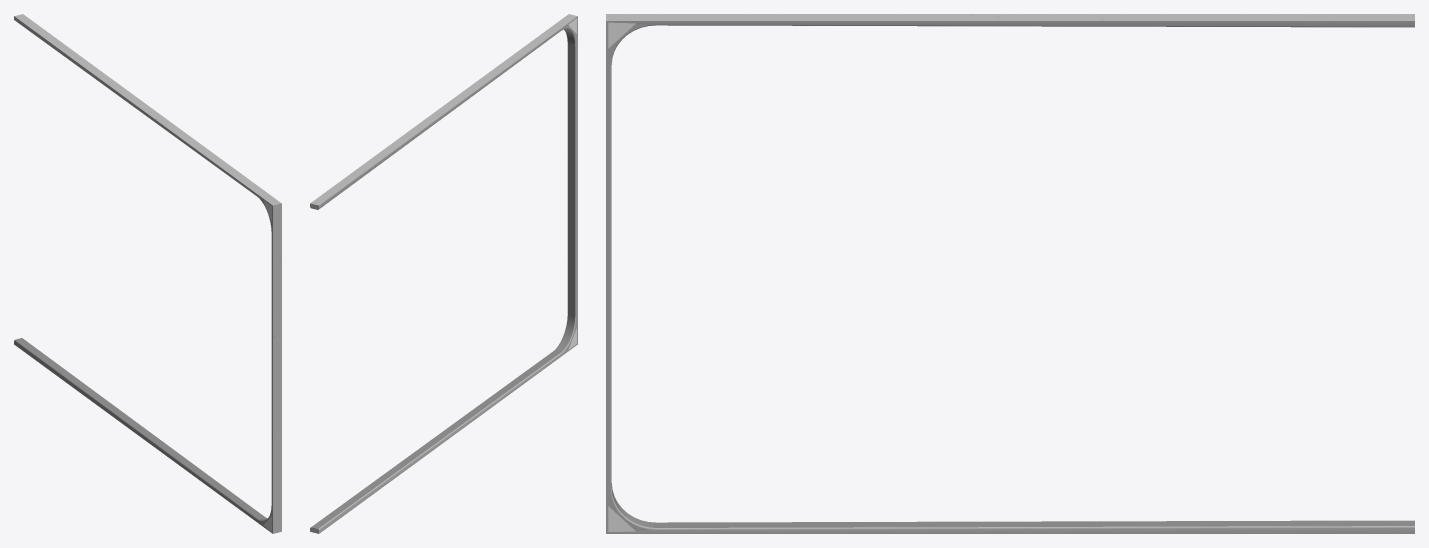
The model's file is SM_Interior_Part_1_Merged.fbx.
The picture shows the model from 3 angles, left to right: view 1: azimuth 30°, elevation 25°; view 2: azimuth 150°, elevation 25°; view 3: azimuth 270°, elevation 25°; orthographic projection. The views are drawn at different scales.
Visible parts, largest first — view 1: SM_Interior_Part_1_Merged_LOD0; view 2: SM_Interior_Part_1_Merged_LOD0; view 3: SM_Interior_Part_1_Merged_LOD0.
Boxes of the visible parts, x1,y1,x2,y2 form: SM_Interior_Part_1_Merged_LOD0: (14, 14, 281, 533); SM_Interior_Part_1_Merged_LOD0: (310, 14, 577, 533); SM_Interior_Part_1_Merged_LOD0: (606, 14, 1414, 533).
Bounding box in the file's own units: 10.1 × 500 × 350.
